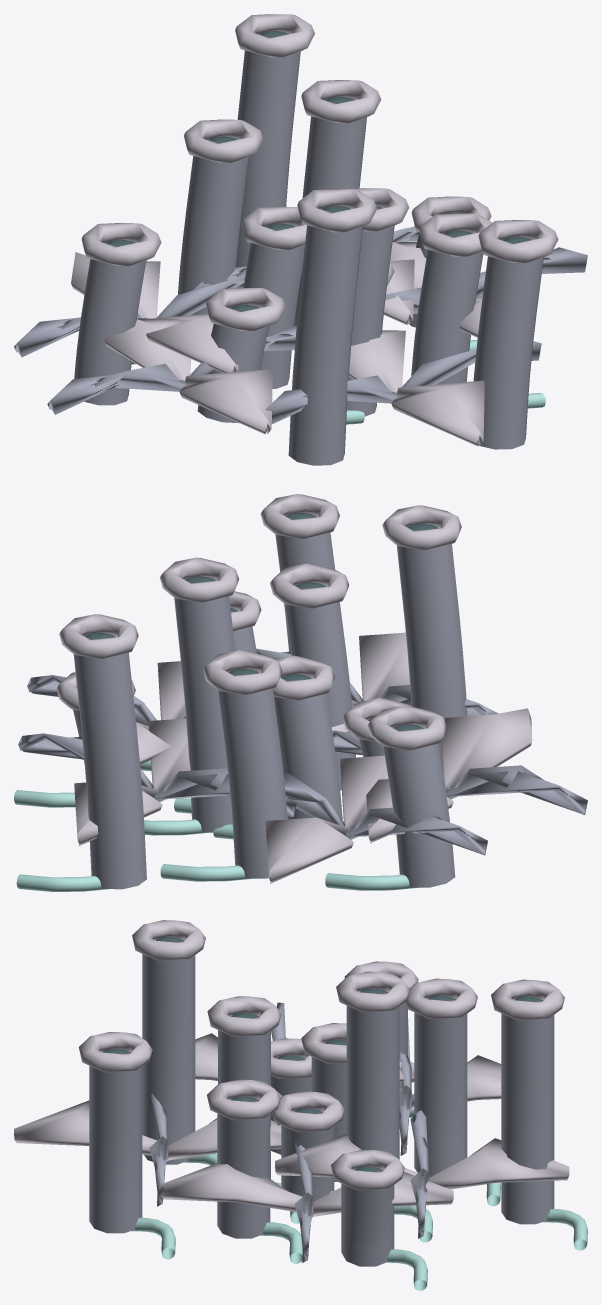
File: bio_thermal_colony_15_far.glb
The picture shows the model from 3 angles, top to bottom: view 1: azimuth 30°, elevation 25°; view 2: azimuth 150°, elevation 25°; view 3: azimuth 270°, elevation 25°; orthographic projection. The views are drawn at different scales.
Parts seen in each view (by area): view 1: Chimney biofilm.007, Chimney biofilm.010, Chimney biofilm.011, Chimney biofilm.006, Low buttress leaf.017, Low buttress leaf.009, Chimney biofilm.009, Chimney biofilm.005, Low buttress leaf.005, Chimney biofilm.003, Chimney biofilm.001, Chimney biofilm.002 (+19 smaller); view 2: Chimney biofilm.011, Chimney biofilm.007, Chimney biofilm.006, Chimney biofilm.003, Chimney biofilm.009, Low buttress leaf.005, Low buttress leaf.017, Chimney biofilm.001, Chimney biofilm.002, Low buttress leaf.016, Low buttress leaf.004, Low buttress leaf.013 (+22 smaller); view 3: Chimney biofilm.011, Chimney biofilm.007, Chimney biofilm.010, Chimney biofilm.003, Chimney biofilm.006, Low buttress leaf.001, Low buttress leaf.013, Chimney biofilm.005, Low buttress leaf.009, Chimney biofilm.008, Chimney biofilm.002, Open vent rim.011 (+25 smaller).
Boxes of the visible parts, x1,y1,x2,y2 form: Chimney biofilm.007: [288, 225, 362, 465]; Chimney biofilm.010: [473, 256, 543, 449]; Chimney biofilm.011: [236, 50, 300, 267]; Chimney biofilm.006: [178, 156, 248, 315]; Low buttress leaf.017: [104, 318, 272, 434]; Low buttress leaf.009: [349, 330, 484, 446]; Chimney biofilm.009: [74, 259, 145, 405]; Chimney biofilm.005: [411, 249, 483, 384]; Low buttress leaf.005: [71, 252, 238, 372]; Chimney biofilm.003: [294, 116, 366, 326]; Chimney biofilm.001: [243, 243, 304, 388]; Chimney biofilm.002: [347, 225, 394, 416]; Chimney biofilm.011: [73, 633, 146, 889]; Chimney biofilm.007: [397, 527, 467, 771]; Chimney biofilm.006: [218, 672, 287, 878]; Chimney biofilm.003: [174, 596, 234, 832]; Chimney biofilm.009: [383, 727, 455, 887]; Low buttress leaf.005: [265, 755, 388, 883]; Low buttress leaf.017: [366, 708, 532, 843]; Chimney biofilm.001: [274, 677, 342, 820]; Chimney biofilm.002: [285, 585, 355, 790]; Low buttress leaf.016: [332, 730, 587, 814]; Low buttress leaf.004: [283, 773, 487, 855]; Low buttress leaf.013: [74, 718, 190, 846]; Chimney biofilm.011: [501, 1000, 554, 1224]; Chimney biofilm.007: [142, 940, 195, 1164]; Chimney biofilm.010: [89, 1052, 142, 1233]; Chimney biofilm.003: [346, 992, 399, 1159]; Chimney biofilm.006: [414, 999, 467, 1177]; Low buttress leaf.001: [163, 1163, 453, 1217]; Low buttress leaf.013: [275, 1134, 569, 1189]; Chimney biofilm.005: [217, 1100, 270, 1238]; Low buttress leaf.009: [14, 1100, 281, 1161]; Chimney biofilm.008: [341, 1170, 394, 1266]; Chimney biofilm.002: [218, 1016, 270, 1178]; Open vent rim.011: [491, 979, 564, 1020].
Size of the model in its own units: 2.22 by 0.9903 by 2.16.
